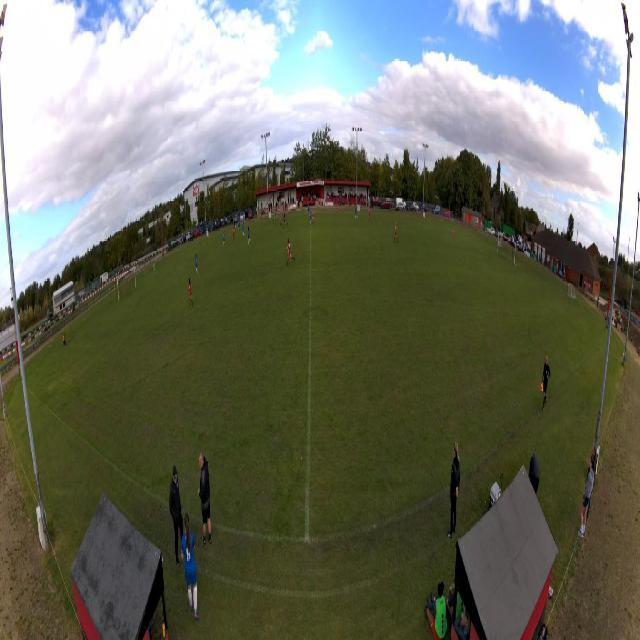ball: (245, 219, 246, 223)
player: (286, 237, 295, 267), (188, 278, 193, 307), (394, 221, 399, 245), (367, 205, 372, 223), (283, 211, 288, 228), (195, 254, 199, 275), (247, 226, 251, 245), (232, 226, 236, 243), (312, 207, 316, 224), (279, 212, 283, 227), (274, 209, 278, 223), (354, 206, 358, 220), (153, 262, 156, 279), (223, 231, 226, 247), (309, 209, 312, 225), (335, 203, 339, 215), (242, 223, 245, 238), (307, 203, 310, 217), (238, 220, 241, 231), (452, 225, 454, 241), (243, 216, 245, 224), (283, 206, 284, 220)
